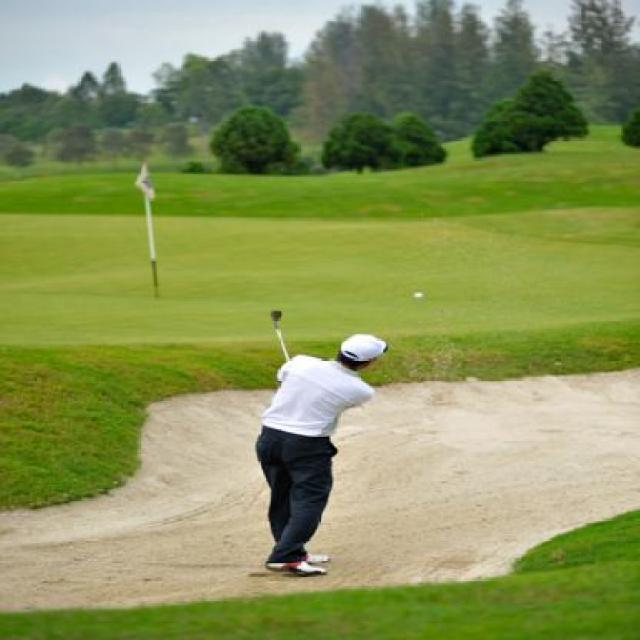club head: (269, 309, 283, 328)
